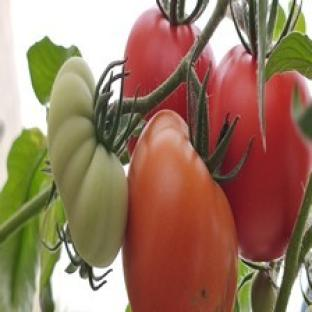Tomato: (123, 111, 238, 311), (209, 46, 310, 260), (48, 58, 128, 267), (124, 7, 200, 97), (251, 271, 277, 311)
